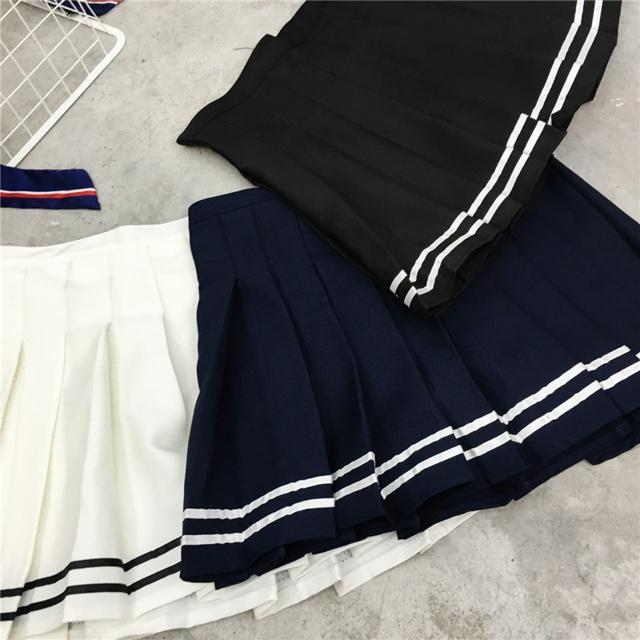Skirts: (189, 183, 640, 571), (174, 1, 620, 312)
